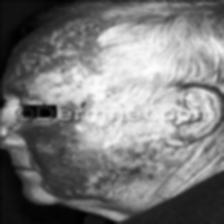Potentially Malignant Skin Tumors: (49, 148, 86, 166), (69, 92, 97, 107)
